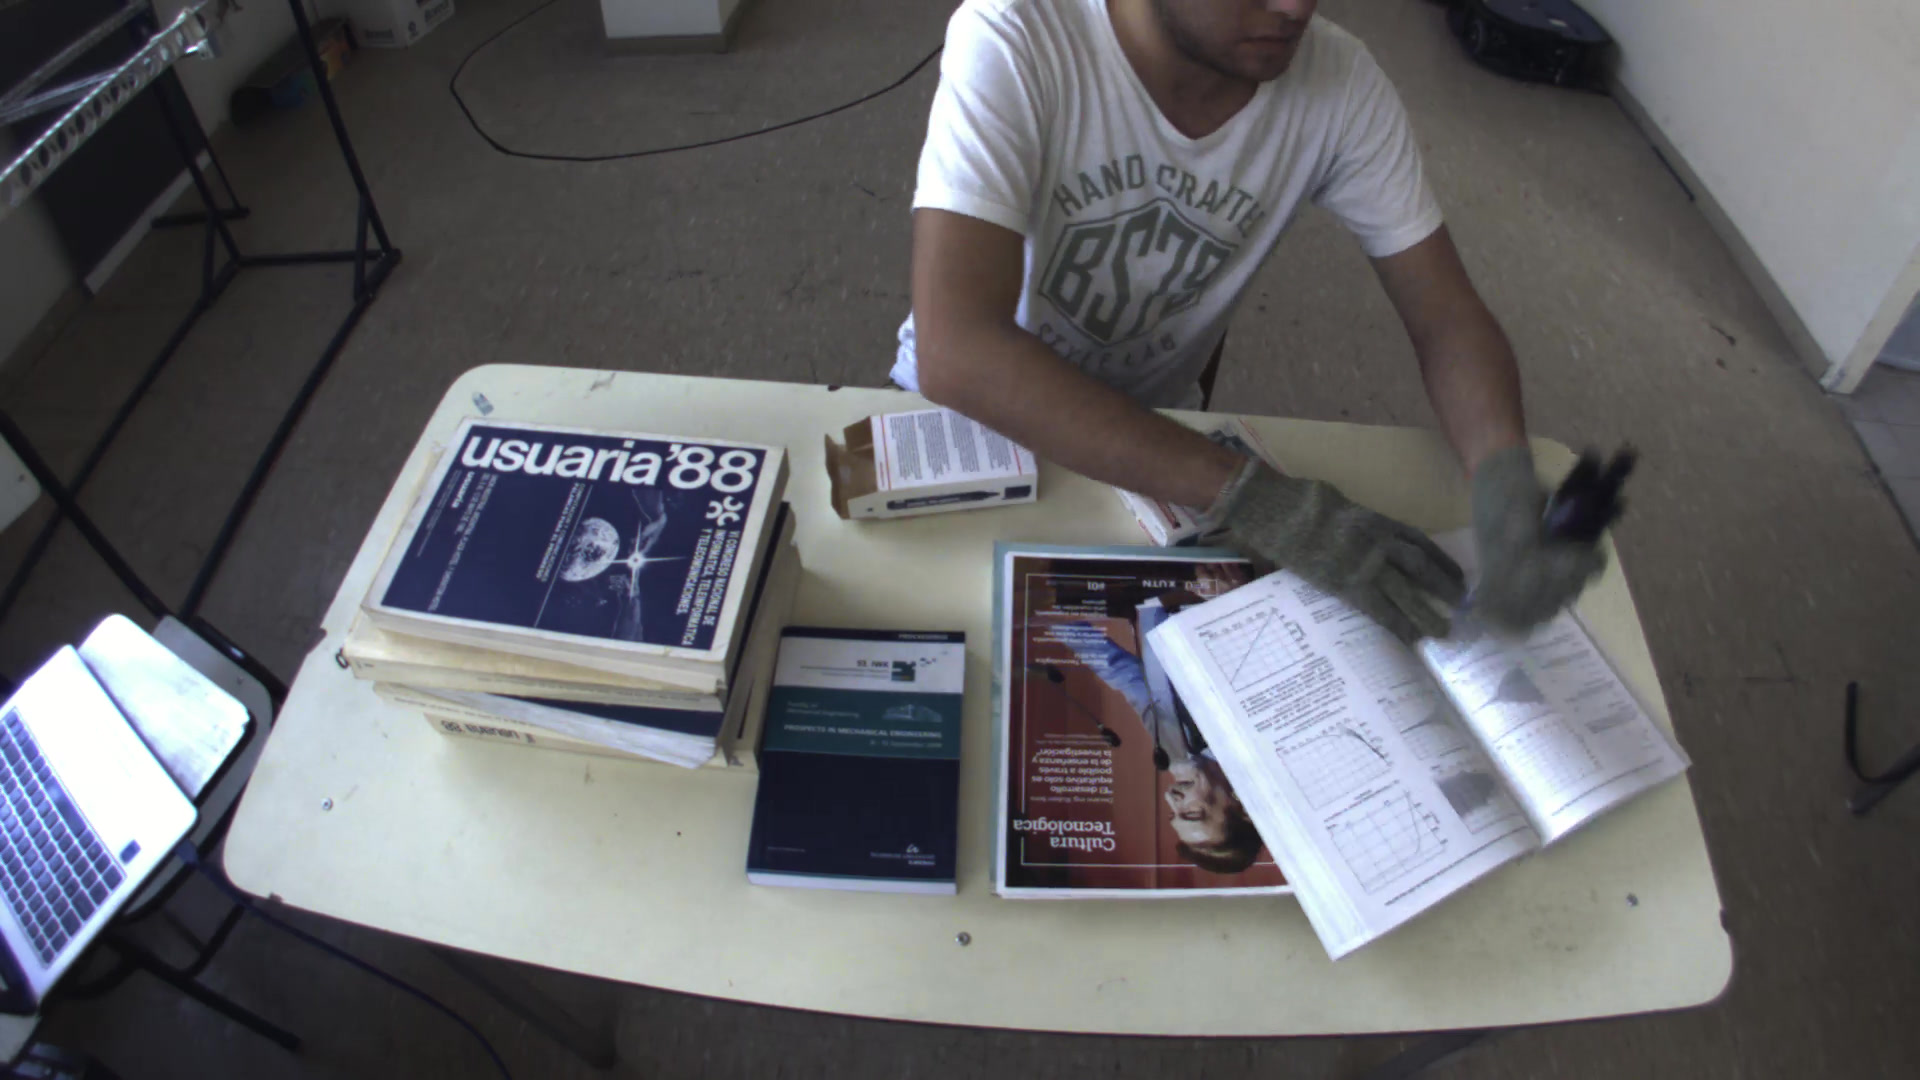hand: (1172, 448, 1484, 640), (1474, 417, 1656, 646)
